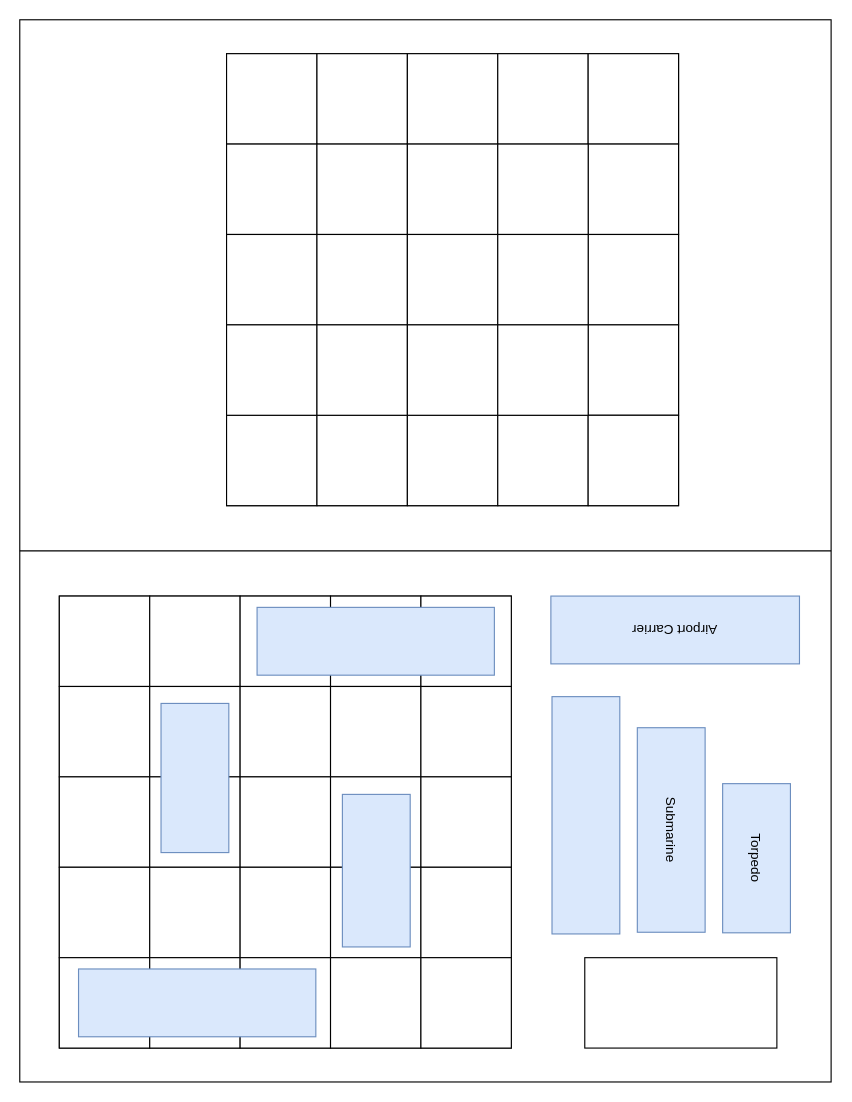
The diagram is 852 pixels wide and 1102 high, and some of its shapes have lost their labels. The box of each missing label's shape, as (x1, y1, x2, y2) in pixels:
Cruiser: (551, 696, 620, 934)
Ready: (584, 957, 777, 1048)
